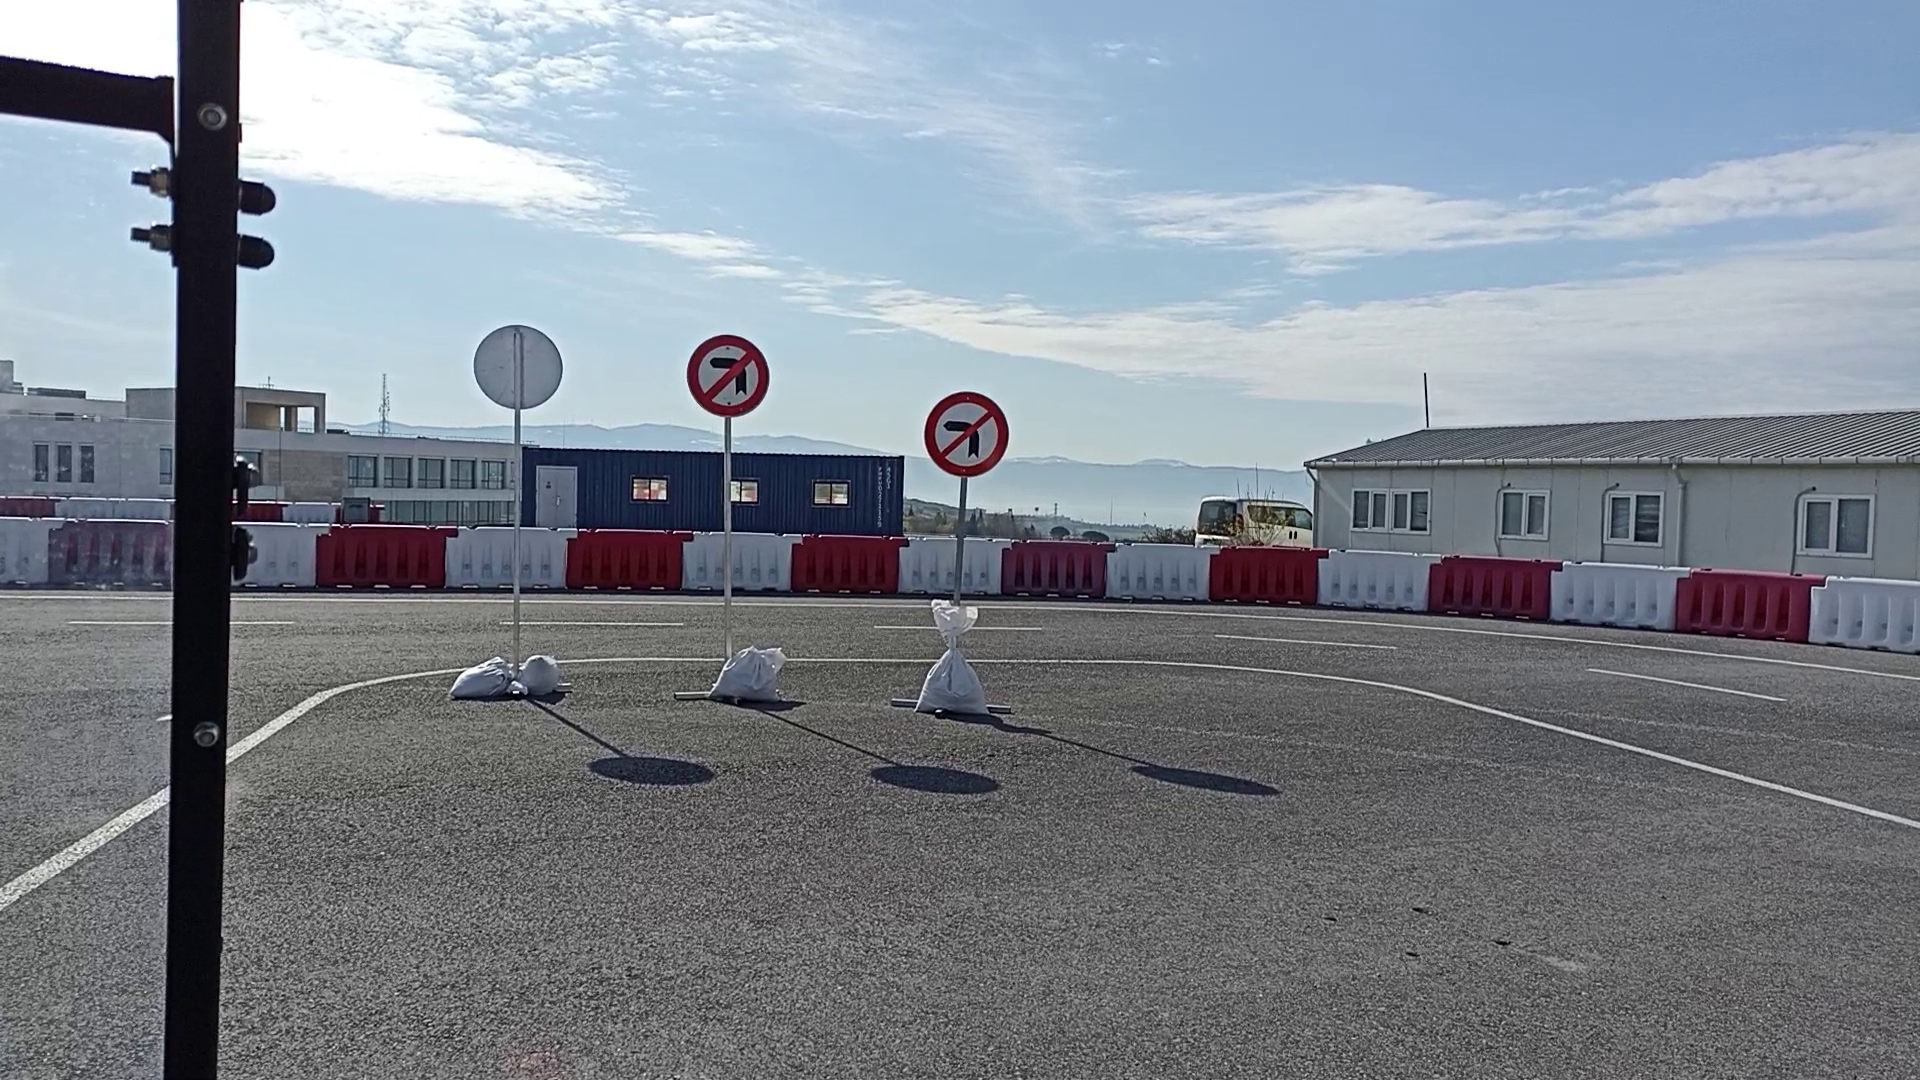noleft: (922, 390, 1010, 477), (684, 334, 771, 417)
